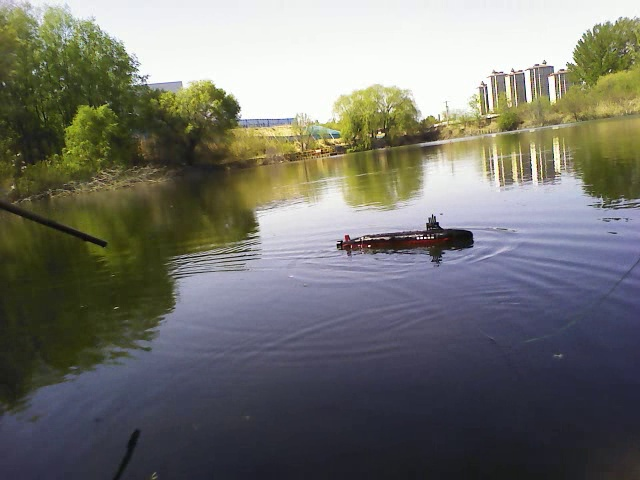submarine: (336, 214, 476, 255)
